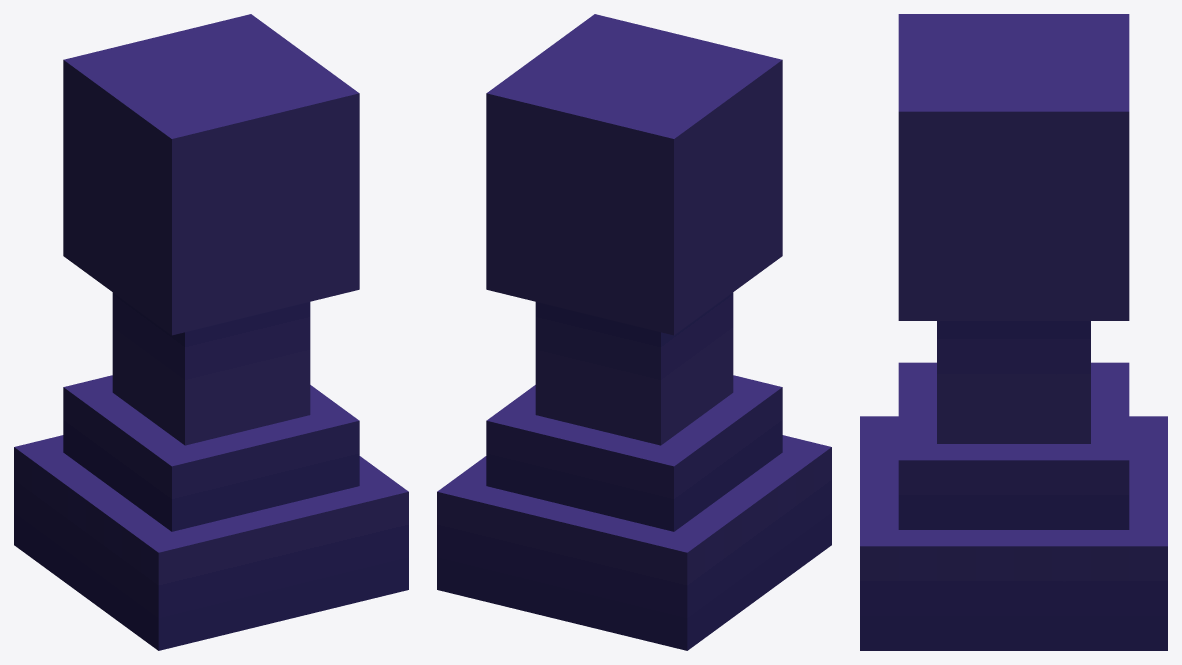
The model's file is Pawn Black.gltf.
3 views of the same model, side by side, from view 1: azimuth 30°, elevation 25°; view 2: azimuth 150°, elevation 25°; view 3: azimuth 270°, elevation 25° (orthographic). The views are drawn at different scales.
Parts seen in each view (by area): view 1: cube (×4); view 2: cube (×4); view 3: cube (×4).
Boxes of the visible parts, x1,y1,x2,y2 form: cube (×4): (14, 14, 408, 650); cube (×4): (437, 14, 831, 650); cube (×4): (860, 14, 1167, 650).
Bounding box in the file's own units: 0.125 × 0.2344 × 0.125.
1 material, 1 textured.
